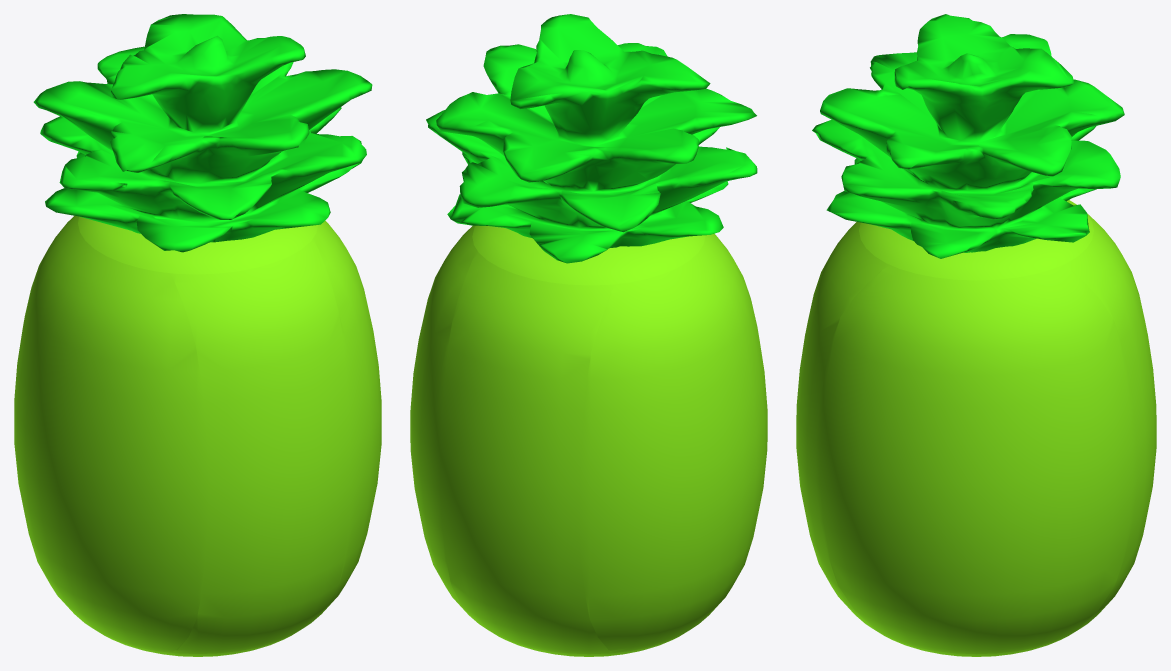
File: jiaoche.FBX
3 views of the same model, side by side, from view 1: azimuth 30°, elevation 25°; view 2: azimuth 150°, elevation 25°; view 3: azimuth 270°, elevation 25° (orthographic). The views are drawn at different scales.
Parts seen in each view (by area): view 1: 3_03, 3_01, 3_05, 3_04; view 2: 3_03, 3_01, 3_06, 3_04; view 3: 3_04, 3_01, 3_06, 3_05.
Part boxes in pixels (x1,y1,x2,y2): 3_03: (14, 215, 208, 652); 3_01: (33, 14, 372, 274); 3_05: (170, 239, 350, 653); 3_04: (313, 220, 381, 614); 3_03: (579, 233, 767, 652); 3_01: (426, 14, 757, 285); 3_06: (440, 250, 615, 654); 3_04: (410, 225, 476, 615); 3_04: (815, 265, 1137, 654); 3_01: (812, 14, 1124, 280); 3_06: (1062, 214, 1156, 637); 3_05: (796, 222, 890, 637).
Bounding box in the file's own units: 107 × 187 × 107.
